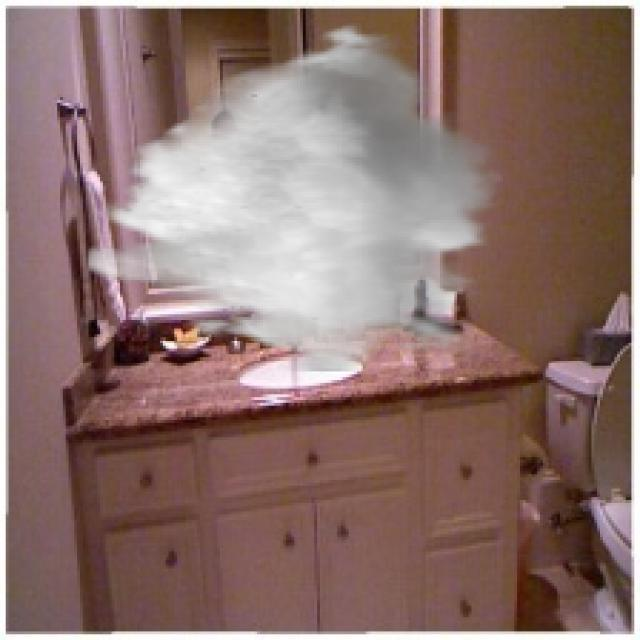Smoke: (86, 17, 503, 372)
